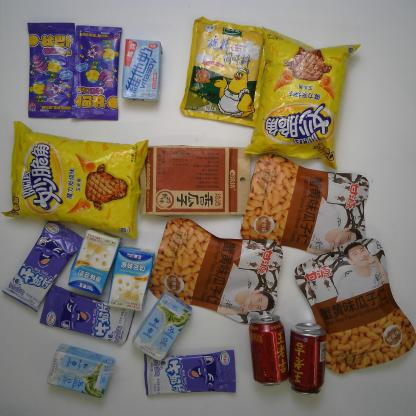Candy: (0, 216, 85, 316), (35, 278, 138, 348), (68, 20, 125, 124), (24, 18, 78, 122), (140, 348, 238, 399)
Dried Food: (137, 142, 255, 221)
Dried Fruit: (284, 234, 416, 376), (146, 216, 285, 336), (234, 149, 374, 257)
Drink: (246, 307, 290, 390), (284, 321, 330, 398)
Milk: (128, 289, 194, 365), (64, 224, 124, 301), (42, 341, 119, 401), (105, 242, 156, 316), (120, 35, 164, 103)
Puffed Food: (0, 119, 151, 244), (241, 18, 362, 172)
Seasoner: (177, 14, 277, 131)
